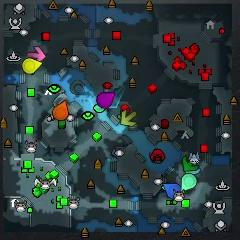p1: (163, 183, 181, 199)
p2: (182, 173, 197, 191)
p3: (97, 91, 115, 109)
p4: (23, 59, 42, 74)
p5: (53, 101, 69, 121)
x1: (26, 45, 45, 61)
x2: (121, 111, 139, 127)
x3: (186, 168, 201, 175)
x4: (181, 156, 197, 172)
